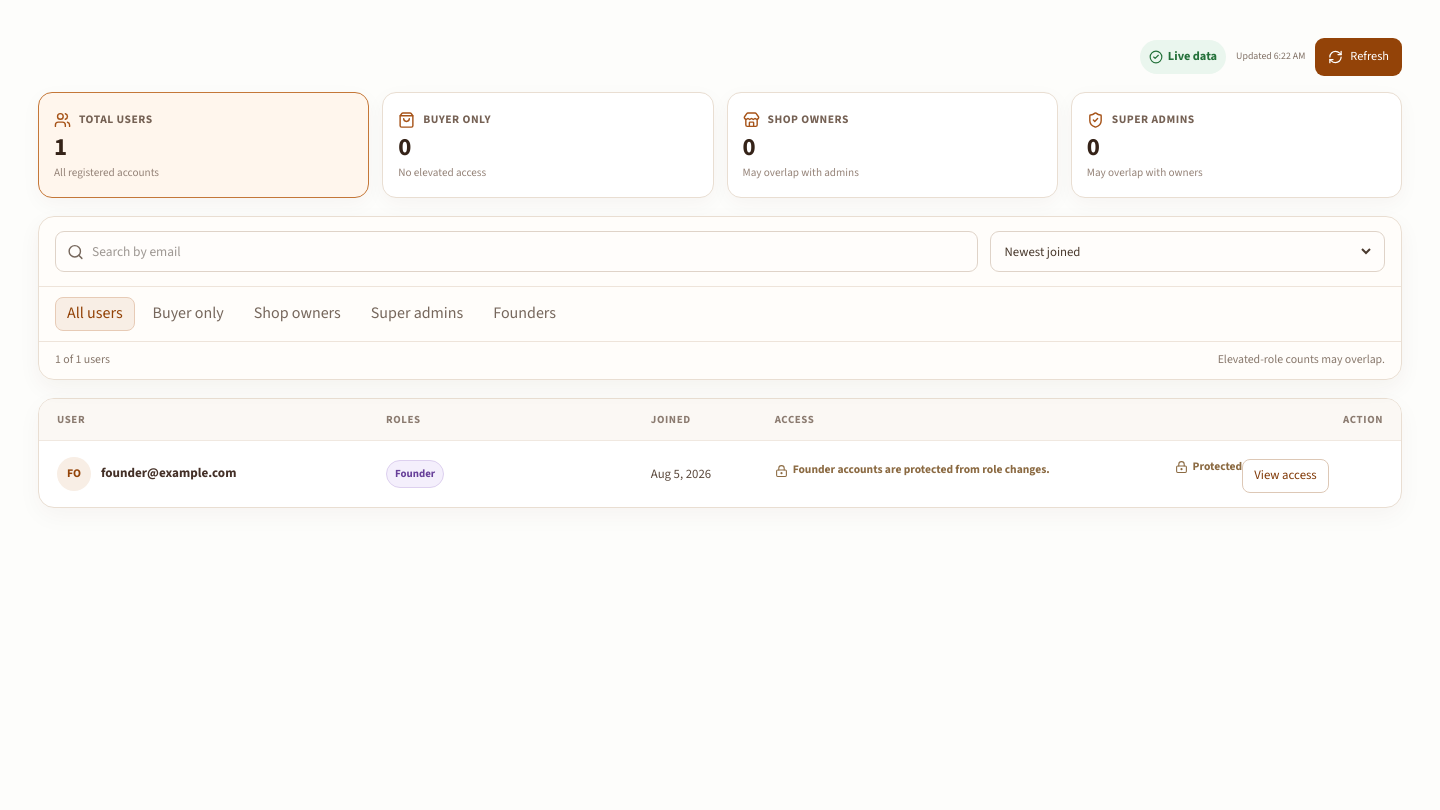
Test case: RoleAssignationPage super-admin promotion › opens protected accounts as read-only and closes the drawer with Escape
The image size is (1440, 810).
Click the button "View access" at [1286, 476], box [1242,459,1329,493]
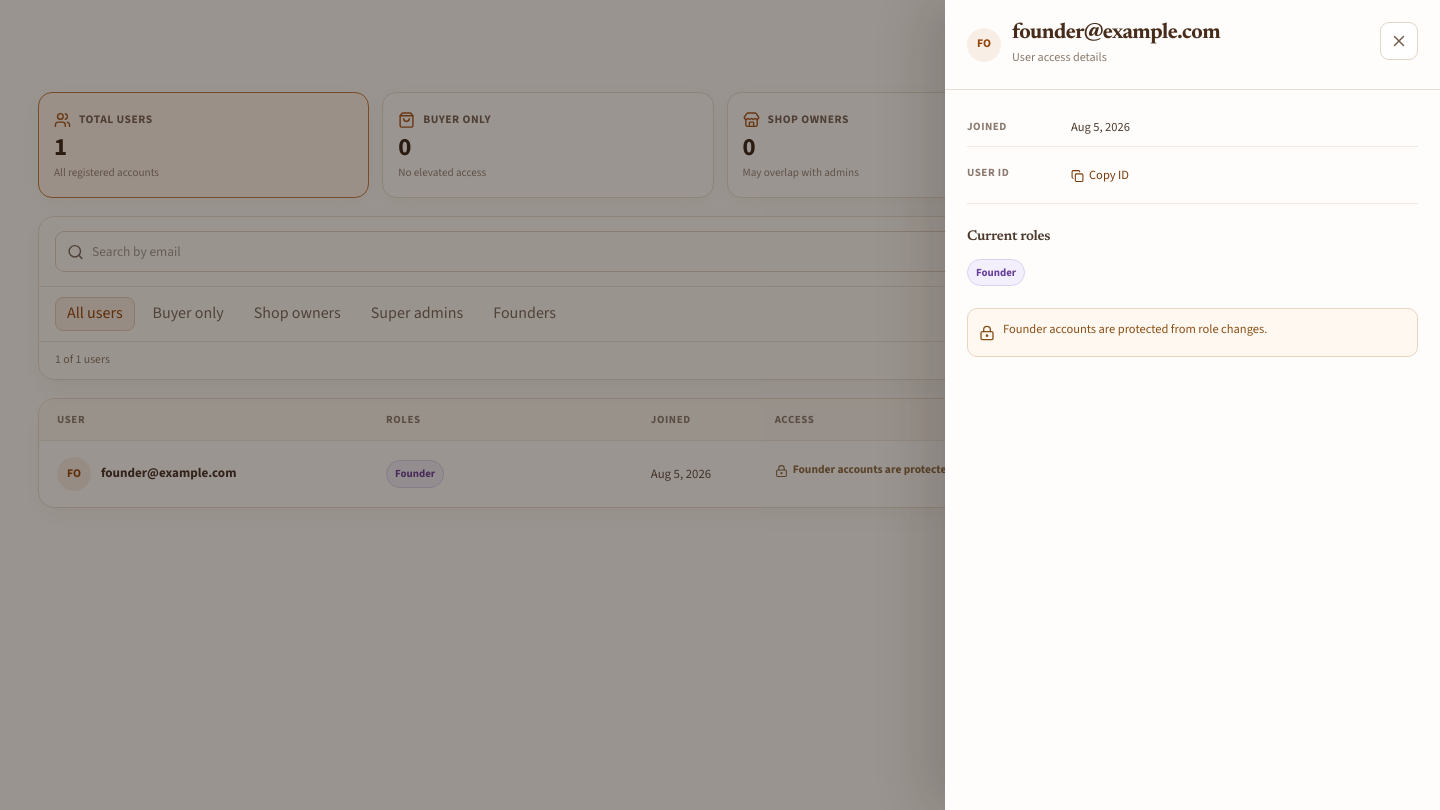
Check: the text "Founder accounts are protected from role changes." is shown, box [967,308,1418,357]
Press Escape in the dialog, box [945,0,1439,809]
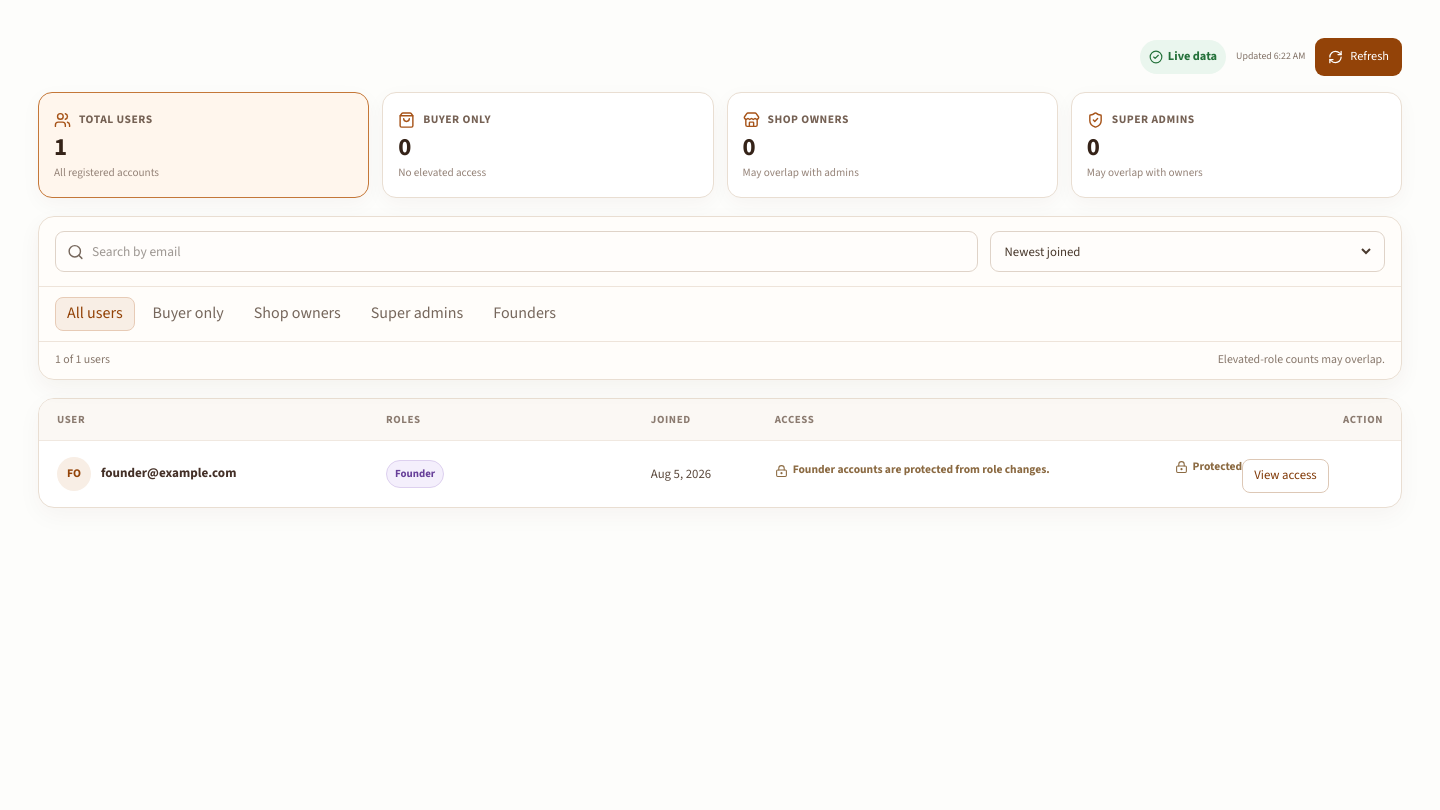
Check: the dialog is gone
